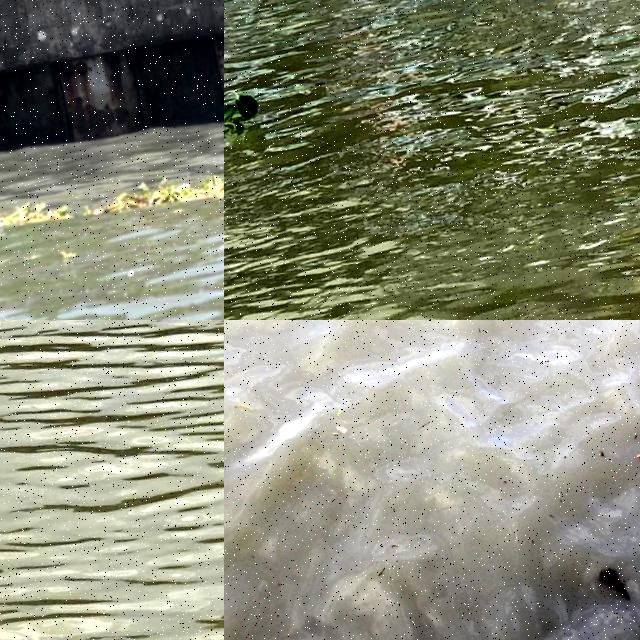water-hyacinth: (101, 165, 225, 215), (225, 83, 262, 152), (6, 197, 73, 233)
